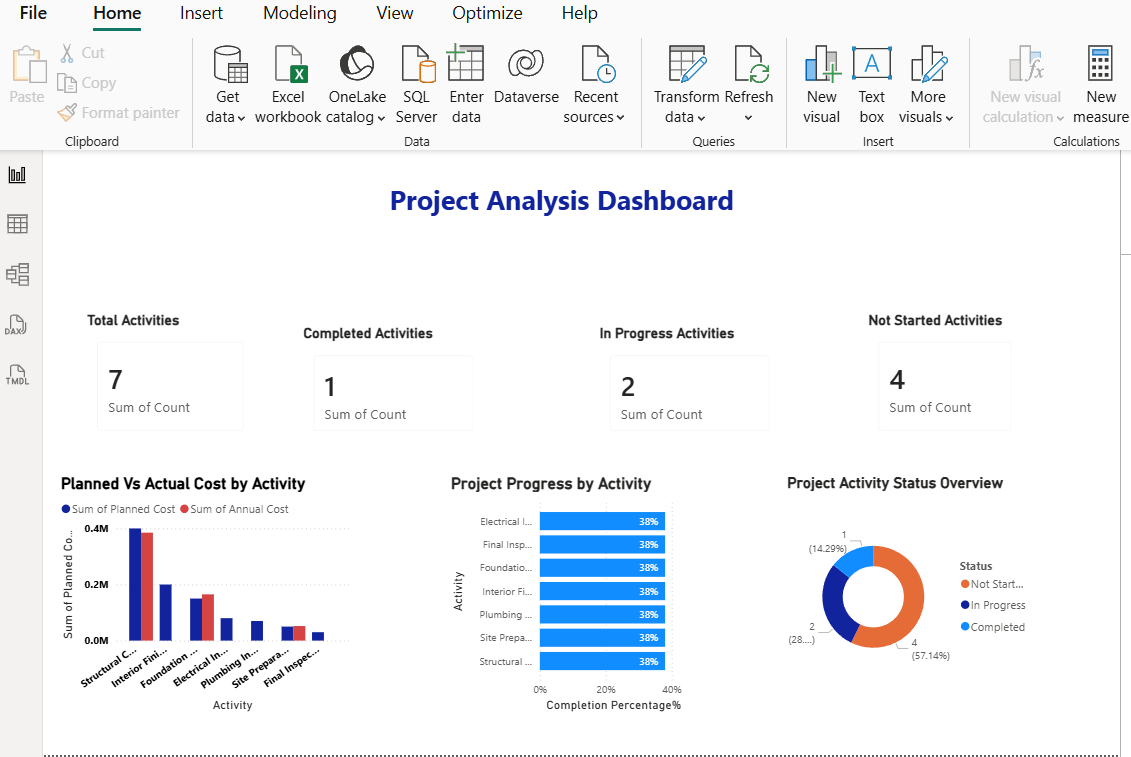

What the dashboard file says about the page in this screenshot:
{"tool":"powerbi","page":{"name":"Project Analysis","canvas":[1280,720],"ordinal":1},"visuals":[{"type":"clusteredColumnChart","title":"Planned Vs Actual Cost by Activity","fields":{"Category":["Cost_Analysis.Activity"],"Y":["Sum(Cost_Analysis.Planned Cost)","Sum(Cost_Analysis.Annual Cost)"]},"box":[16,384,352,288],"z":0},{"type":"clusteredBarChart","title":"Project Progress by Activity","fields":{"Category":["Cost_Analysis.Activity"],"Y":["Cost_Analysis.Completion Percentage%"]},"box":[480,384,304,288],"z":1000},{"type":"donutChart","title":"Project Activity Status Overview","fields":{"Category":["Status_Summary.Status"],"Y":["CountNonNull(Cost_Analysis.Activity)"]},"box":[880,384,304,272],"z":2000},{"type":"cardVisual","title":"Total Activities","fields":{"Data":["Sum(Status_Summary.Count)"]},"box":[48,192,208,160],"z":3000},{"type":"cardVisual","title":"Completed Activities","fields":{"Data":["Sum(Status_Summary.Count)"]},"box":[304,208,224,144],"z":4000},{"type":"cardVisual","title":"In Progress Activities","fields":{"Data":["Sum(Status_Summary.Count)"]},"box":[656,208,224,144],"z":5000},{"type":"cardVisual","title":"Not Started Activities","fields":{"Data":["Sum(Status_Summary.Count)"]},"box":[976,192,192,160],"z":6000},{"type":"textbox","box":[368,32,496,64],"z":7000}]}

Visuals, with their boxes on the page's 1280x720 design canvas (x1, y1, x2, y2). These are canvas units, not pixel positions in the 1131x757 screenshot, which may show the page scaled, cropped or inside an application window:
"Planned Vs Actual Cost by Activity" clusteredColumnChart: {"left": 16, "top": 384, "right": 368, "bottom": 672}
"Project Progress by Activity" clusteredBarChart: {"left": 480, "top": 384, "right": 784, "bottom": 672}
"Project Activity Status Overview" donutChart: {"left": 880, "top": 384, "right": 1184, "bottom": 656}
"Total Activities" cardVisual: {"left": 48, "top": 192, "right": 256, "bottom": 352}
"Completed Activities" cardVisual: {"left": 304, "top": 208, "right": 528, "bottom": 352}
"In Progress Activities" cardVisual: {"left": 656, "top": 208, "right": 880, "bottom": 352}
"Not Started Activities" cardVisual: {"left": 976, "top": 192, "right": 1168, "bottom": 352}
textbox: {"left": 368, "top": 32, "right": 864, "bottom": 96}
